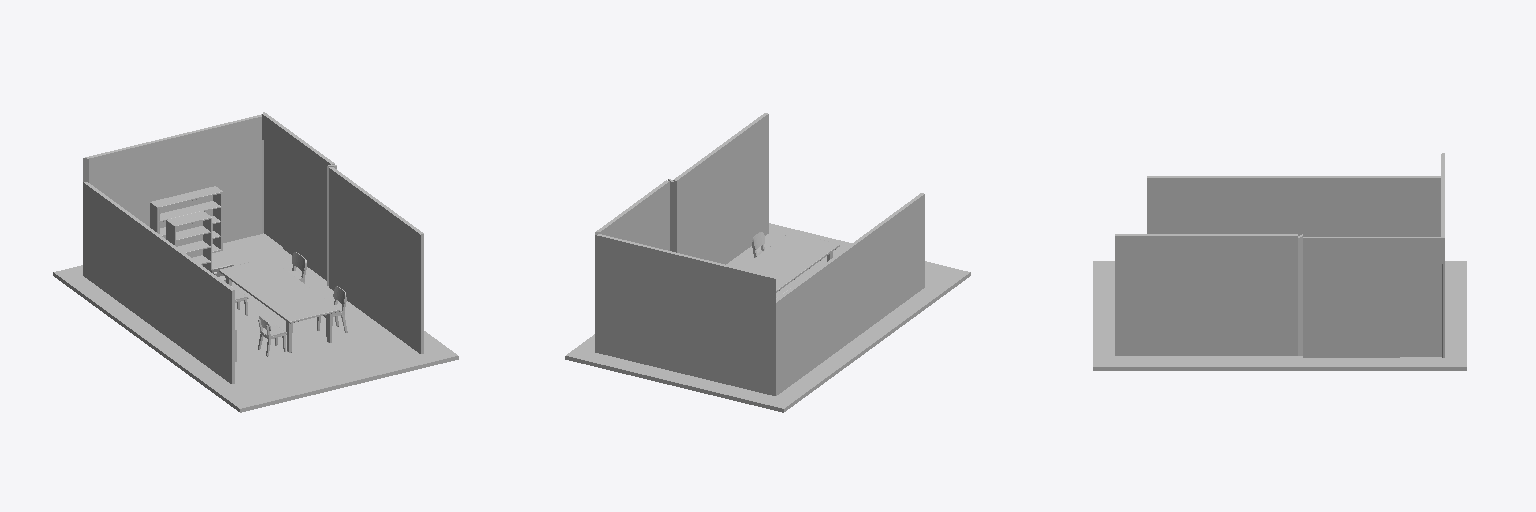
Rendered from trackbot_room.obj.
The picture shows the model from 3 angles: view 1: azimuth 30°, elevation 25°; view 2: azimuth 150°, elevation 25°; view 3: azimuth 270°, elevation 25°; orthographic projection.
Parts seen in each view (by area): view 1: Node #17, Node #14, Node #15, Node #11, Node #13, Node #6, Node #8, Node #7, Node #10, Node #16; view 2: Node #15, Node #14, Node #11, Node #17, Node #6, Node #13, Node #16; view 3: Node #11, Node #14, Node #13, Node #17, Node #10, Node #16, Node #12.
Part boxes in pixels (left/top/right/bottom): Node #17: left=53, top=233, right=458, bottom=412; Node #14: left=83, top=182, right=234, bottom=383; Node #15: left=83, top=117, right=261, bottom=243; Node #11: left=329, top=168, right=423, bottom=353; Node #13: left=262, top=114, right=334, bottom=280; Node #6: left=219, top=258, right=339, bottom=352; Node #8: left=150, top=186, right=222, bottom=252; Node #7: left=166, top=211, right=211, bottom=271; Node #10: left=264, top=141, right=282, bottom=246; Node #16: left=84, top=112, right=423, bottom=290; Node #15: left=595, top=235, right=775, bottom=395; Node #14: left=776, top=194, right=924, bottom=395; Node #11: left=673, top=114, right=768, bottom=264; Node #17: left=565, top=223, right=970, bottom=412; Node #6: left=741, top=232, right=839, bottom=292; Node #13: left=595, top=181, right=669, bottom=250; Node #16: left=596, top=113, right=923, bottom=302; Node #11: left=1115, top=236, right=1297, bottom=355; Node #14: left=1147, top=178, right=1440, bottom=236; Node #13: left=1303, top=238, right=1444, bottom=357; Node #17: left=1093, top=261, right=1466, bottom=370; Node #10: left=1400, top=264, right=1441, bottom=356; Node #16: left=1115, top=153, right=1444, bottom=237; Node #12: left=1298, top=236, right=1302, bottom=355.
Size of the model in its own units: 5.87 by 3.18 by 8.69.